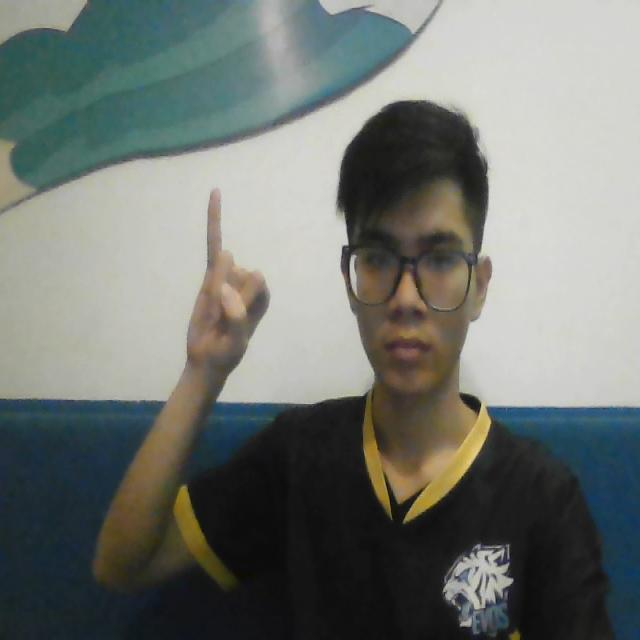I: (182, 181, 282, 377)
